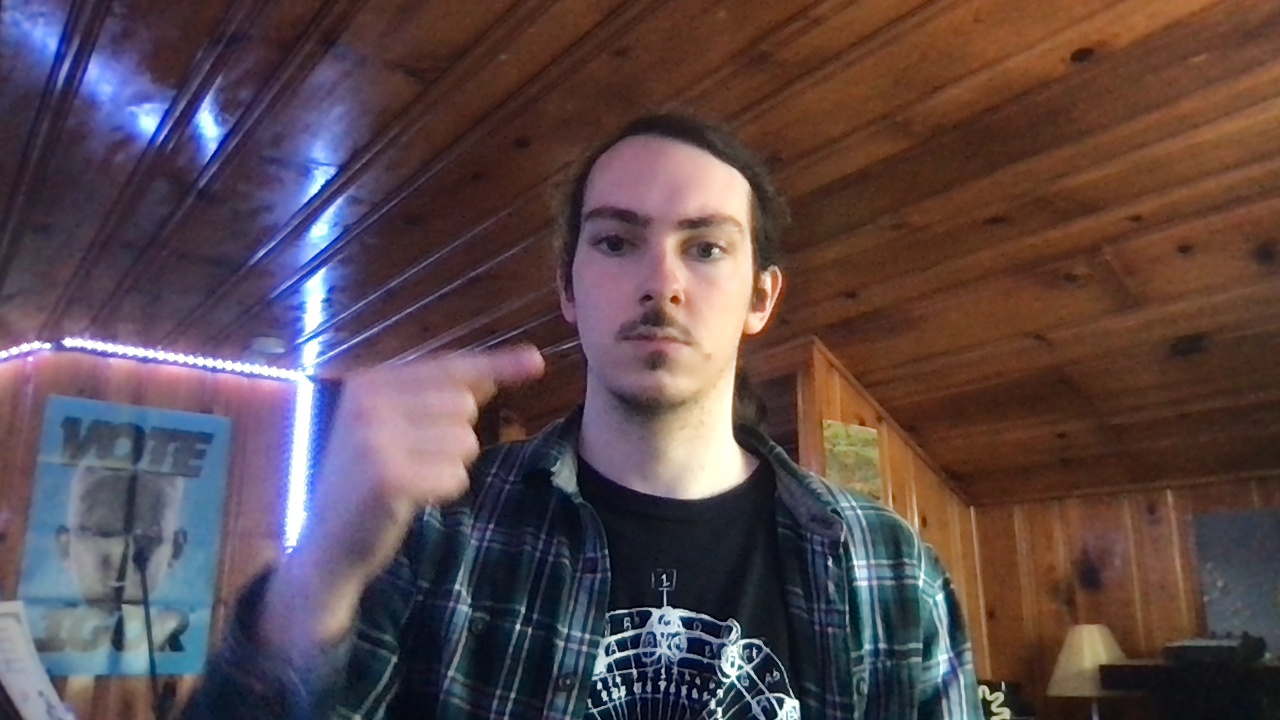g: (312, 342, 547, 599)
